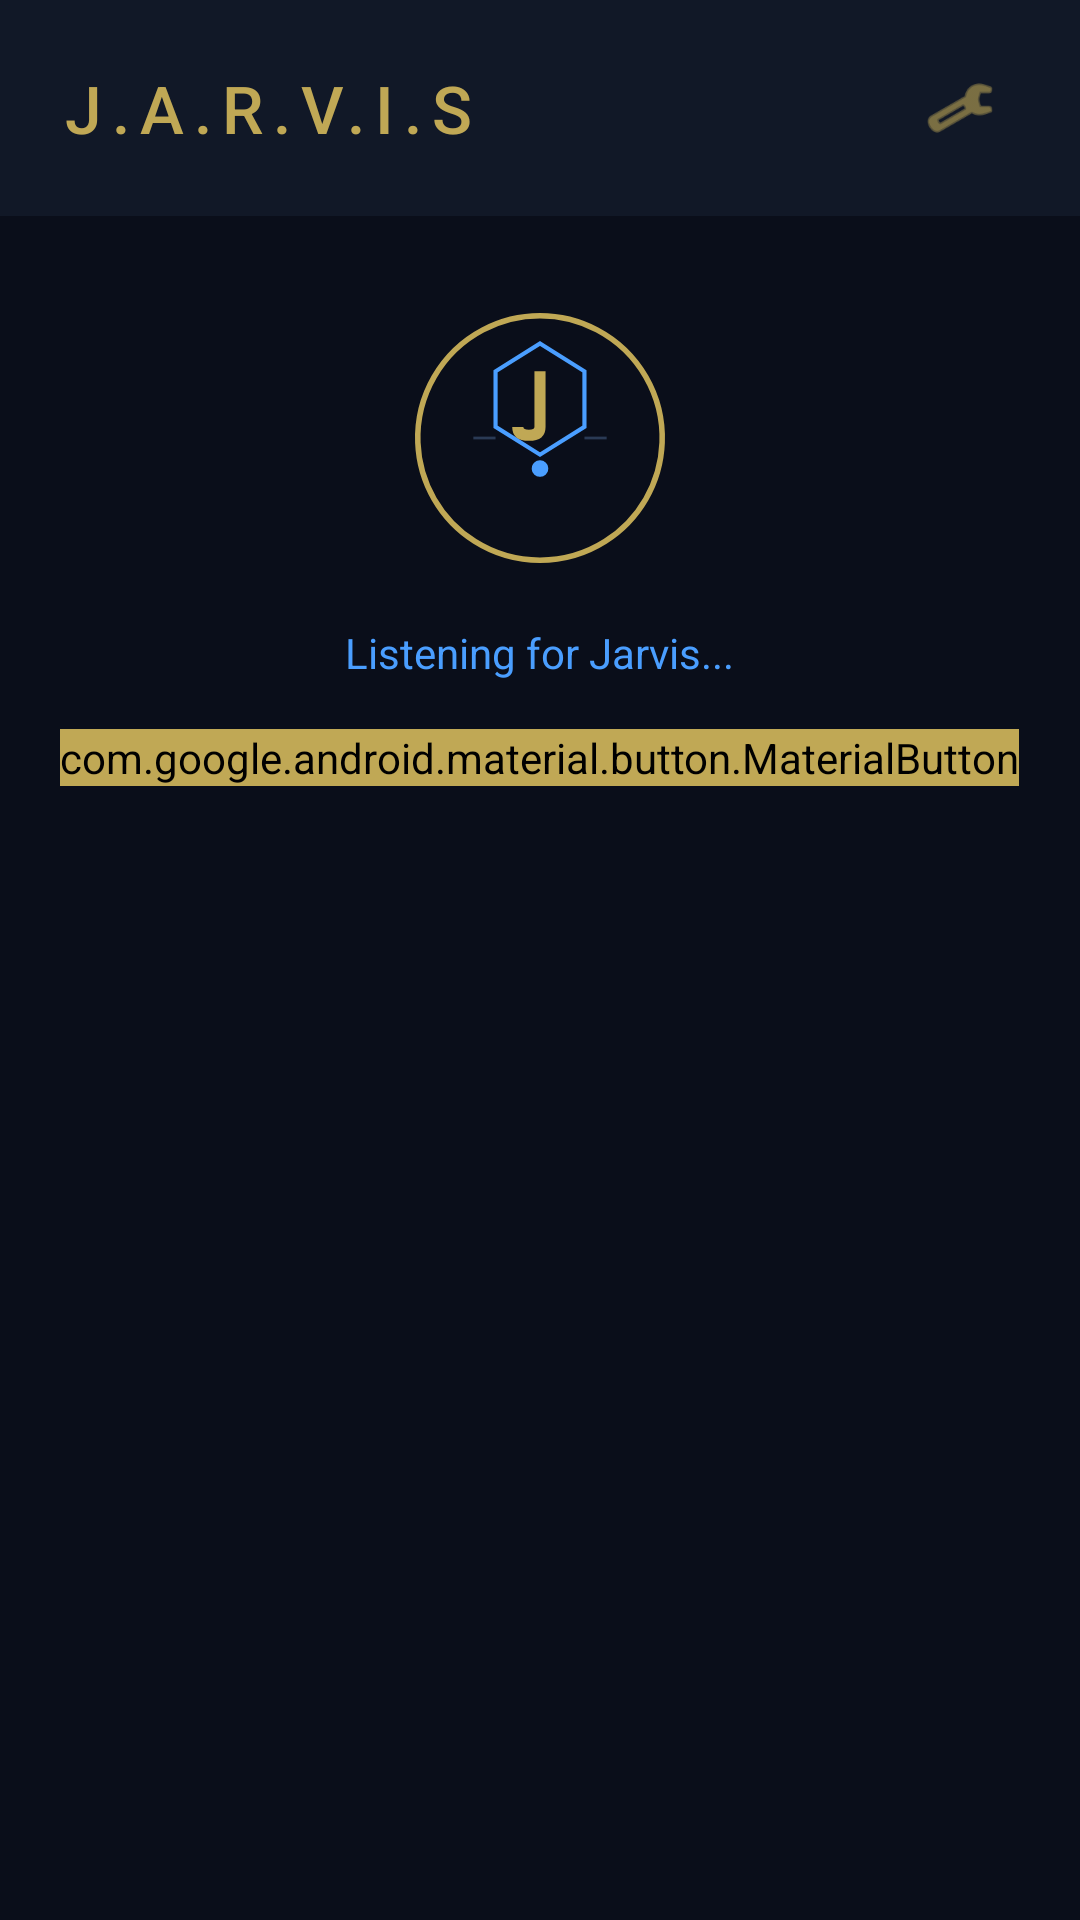

Named icons in this screenshot (1080px×1920px) and their bounding boxes, (x1, y1, x2, y2):
manage: (928, 83, 992, 133)
